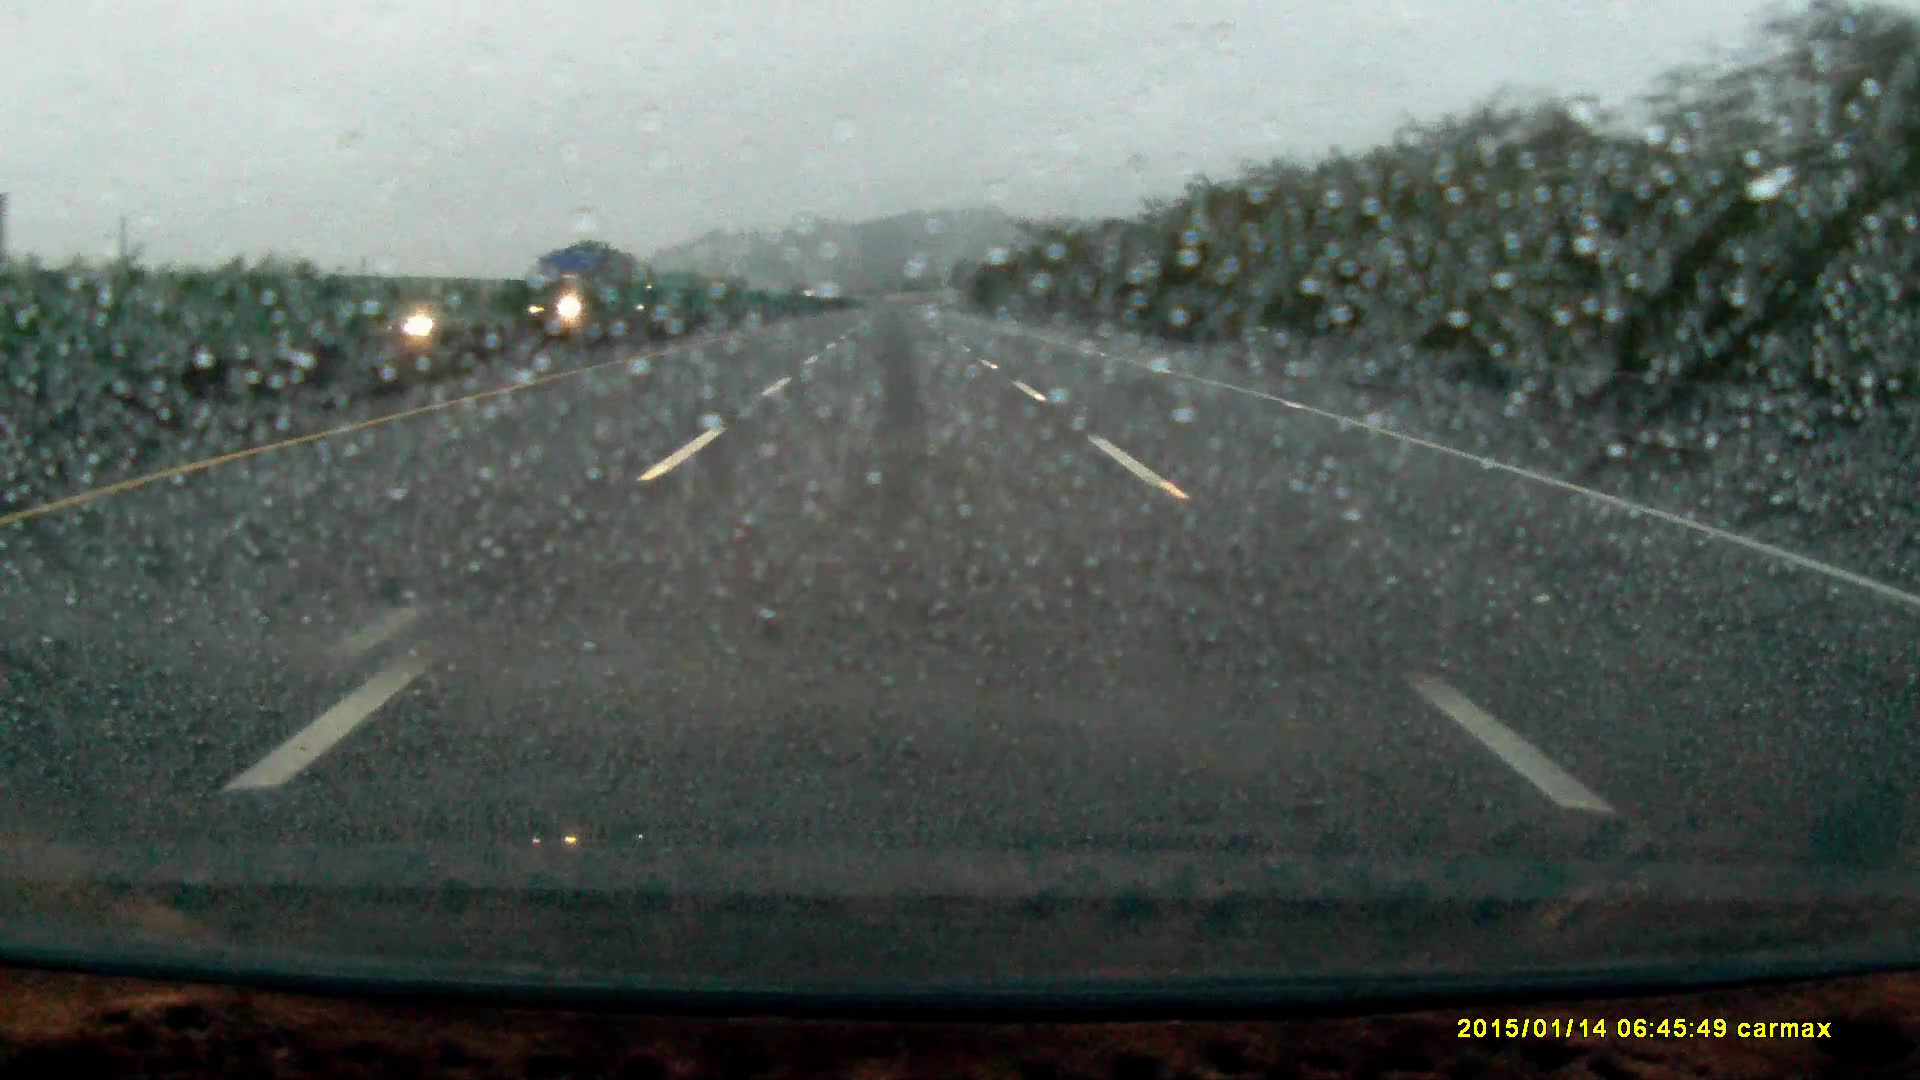vehicle: (522, 243, 641, 334), (376, 301, 463, 335)
